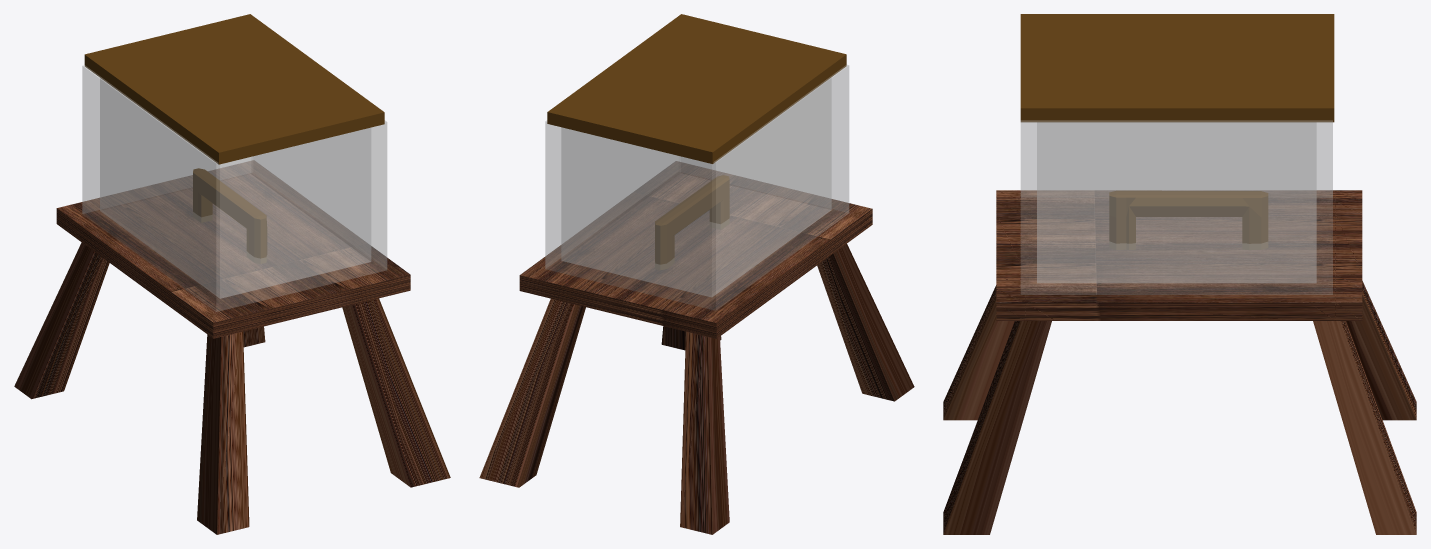
The model's file is тубуреткой по голове.fbx.
The picture shows the model from 3 angles, left to right: view 1: azimuth 30°, elevation 25°; view 2: azimuth 150°, elevation 25°; view 3: azimuth 270°, elevation 25°; orthographic projection. The views are drawn at different scales.
Parts seen in each view (by area): view 1: Cube, Cube.001, Cube.002, Cube.003; view 2: Cube, Cube.001, Cube.002, Cube.003; view 3: Cube, Cube.001, Cube.002, Cube.003.
Boxes of the visible parts, box(x1,y1,x2,y2) form: Cube: box(14, 160, 450, 534); Cube.001: box(82, 65, 387, 311); Cube.002: box(84, 14, 384, 164); Cube.003: box(193, 168, 267, 263); Cube: box(479, 161, 914, 534); Cube.001: box(545, 65, 849, 310); Cube.002: box(547, 14, 846, 163); Cube.003: box(655, 175, 729, 269); Cube: box(943, 190, 1416, 534); Cube.001: box(1020, 120, 1332, 294); Cube.002: box(1020, 14, 1334, 122); Cube.003: box(1109, 190, 1268, 249).
Size of the model in its own units: 971 by 1386 by 1458.
